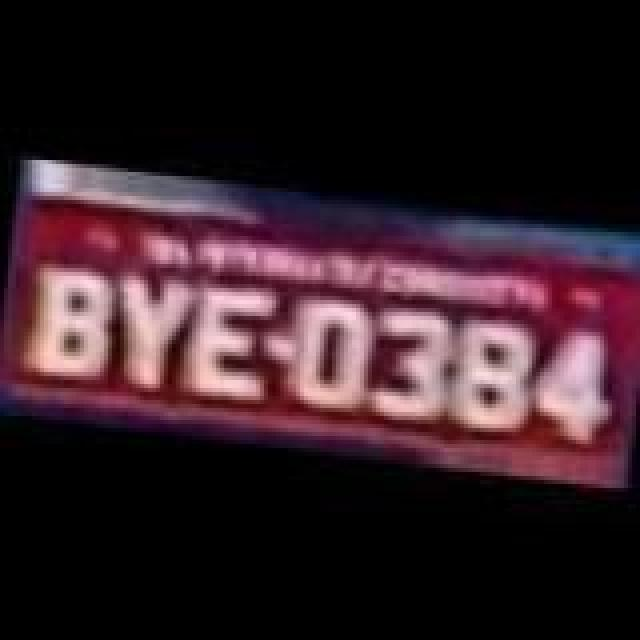3: (358, 302, 454, 426)
4: (528, 316, 620, 444)
8: (444, 310, 536, 438)
B: (20, 256, 116, 384)
E: (186, 274, 278, 398)
O: (286, 290, 374, 414)
Y: (100, 266, 196, 394)
